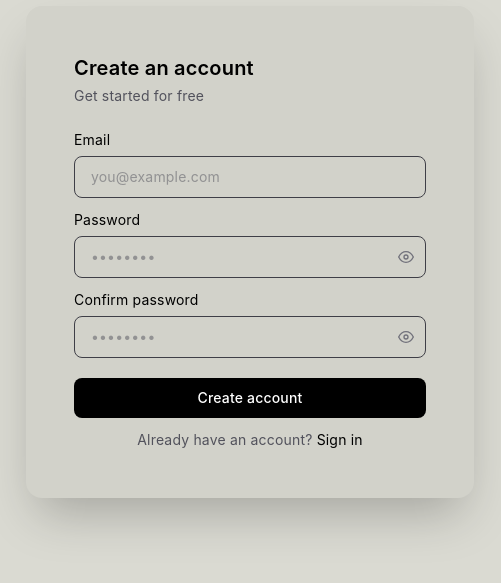
Scenario: RegisterForm › Validation › shows error for short password
Type "short" into the password field with placeholder "••••••••".
click(250, 257); type("short")  # box [74,236,426,278]
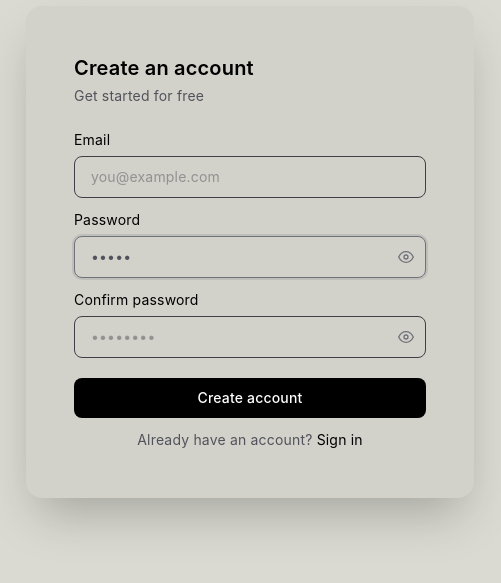
Click the button "Create account".
click(250, 398)  # box [74,378,426,418]
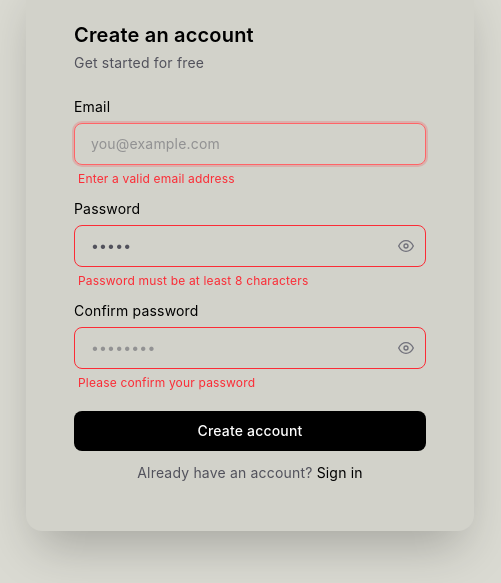
Expected: the text "Password must be at least 8 characters" is shown, [78,273,308,288]
